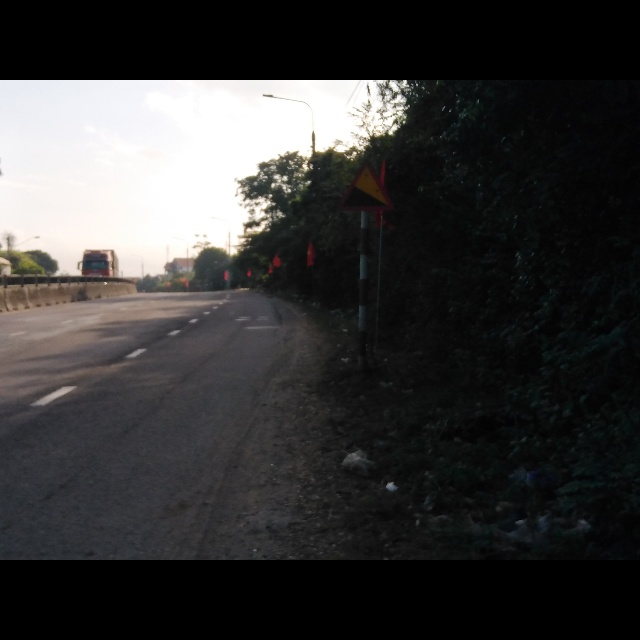Dốc lên nguy hiểm: (337, 160, 395, 215)
